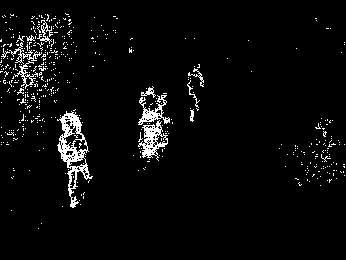person: (53, 108, 95, 209), (188, 64, 207, 123)
